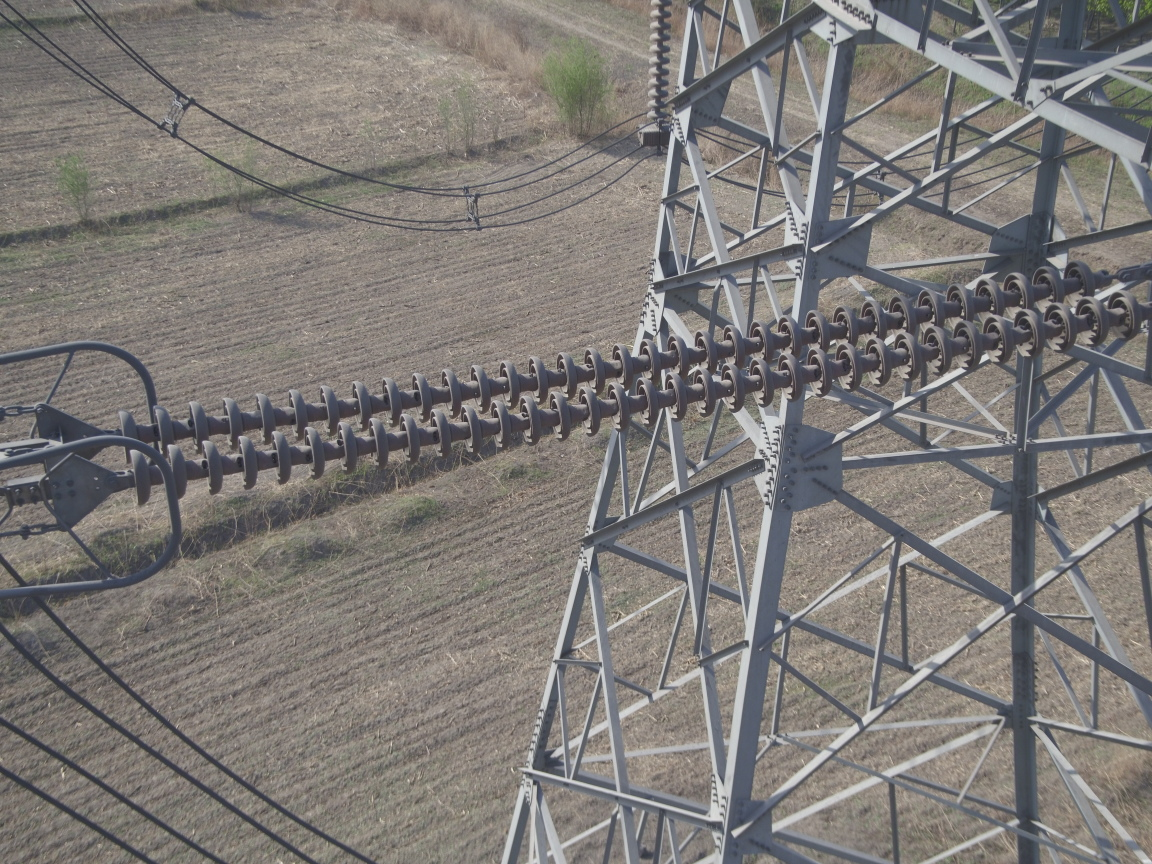insulator: (88, 256, 1152, 511)
